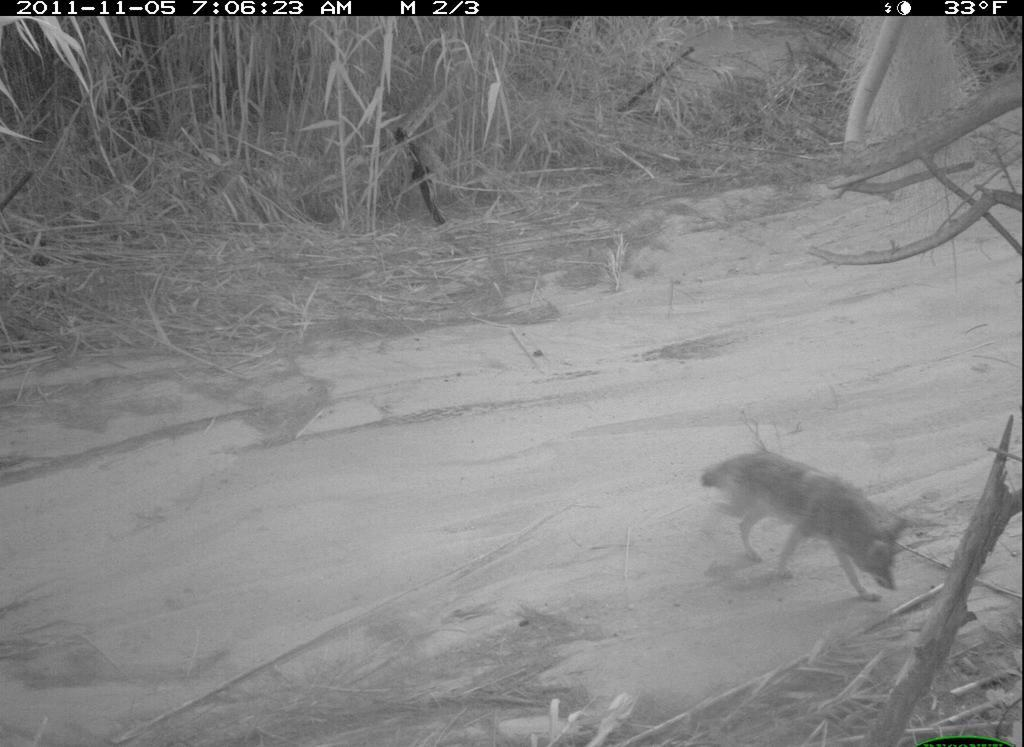coyote: (694, 451, 943, 609)
